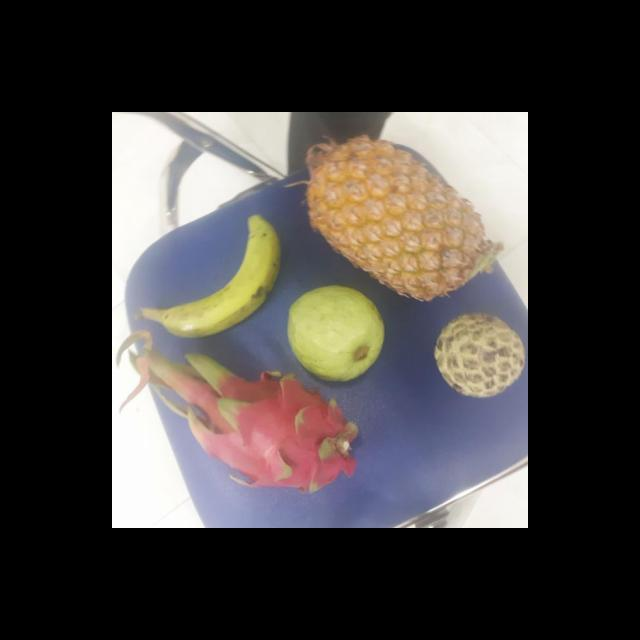Sakya fruit: (431, 314, 526, 397)
guava: (285, 289, 384, 382)
pineapple: (301, 136, 494, 298)
pitaya: (186, 364, 357, 493)
